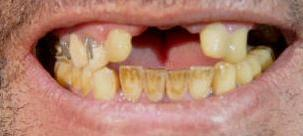Calculus: (119, 65, 143, 100), (191, 68, 217, 98), (168, 70, 191, 102), (143, 69, 165, 101), (217, 65, 240, 93)
Caries: (55, 42, 76, 63)
Discoloration: (85, 38, 107, 68)
Hypodontia: (130, 28, 207, 59), (246, 23, 278, 52)
